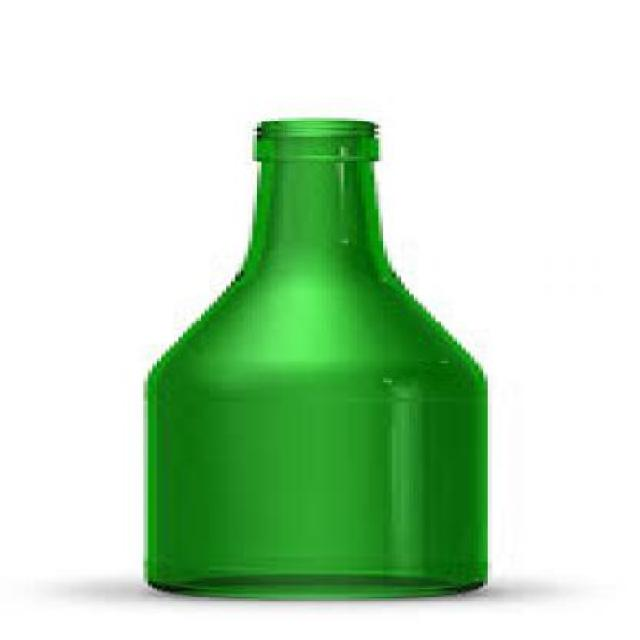kaca: (140, 118, 483, 597)
